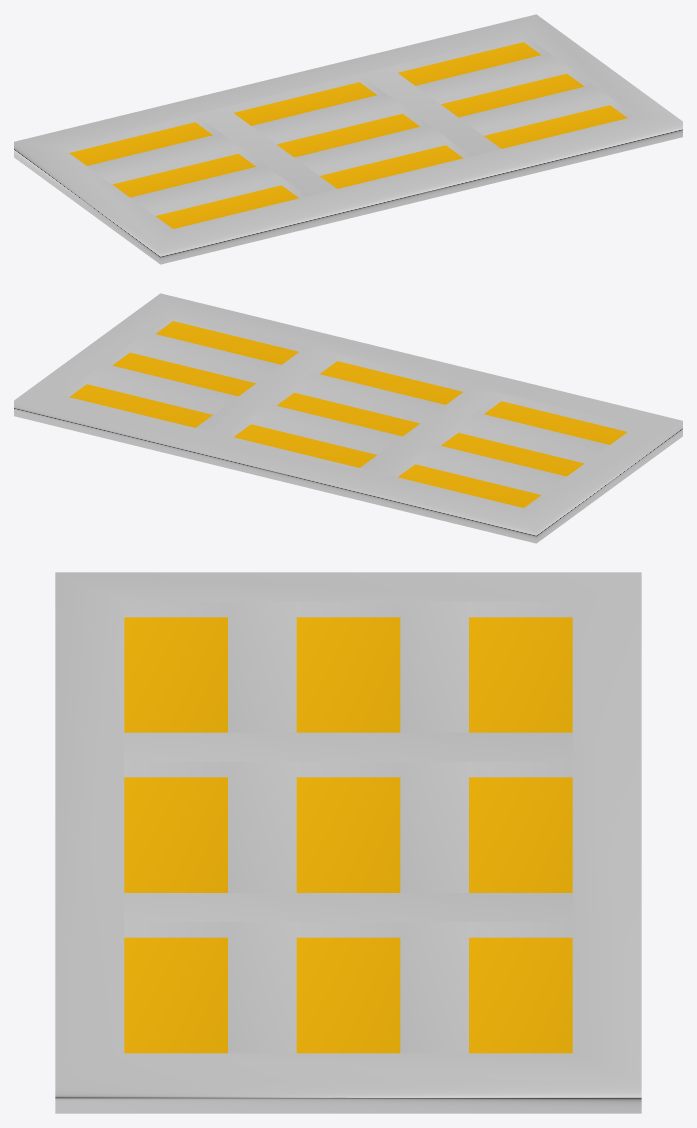
The model's file is kitD.fbx.
3 views of the same model, one above another, from view 1: azimuth 30°, elevation 25°; view 2: azimuth 150°, elevation 25°; view 3: azimuth 270°, elevation 25° (orthographic). The views are drawn at different scales.
Visible parts, largest first — view 1: Cube; view 2: Cube; view 3: Cube.
Boxes of the visible parts, box(x1,y1,x2,y2) form: Cube: box(14, 14, 682, 264); Cube: box(14, 293, 682, 543); Cube: box(55, 572, 641, 1113).
Size of the model in its own units: 222 by 6.35 by 108.
